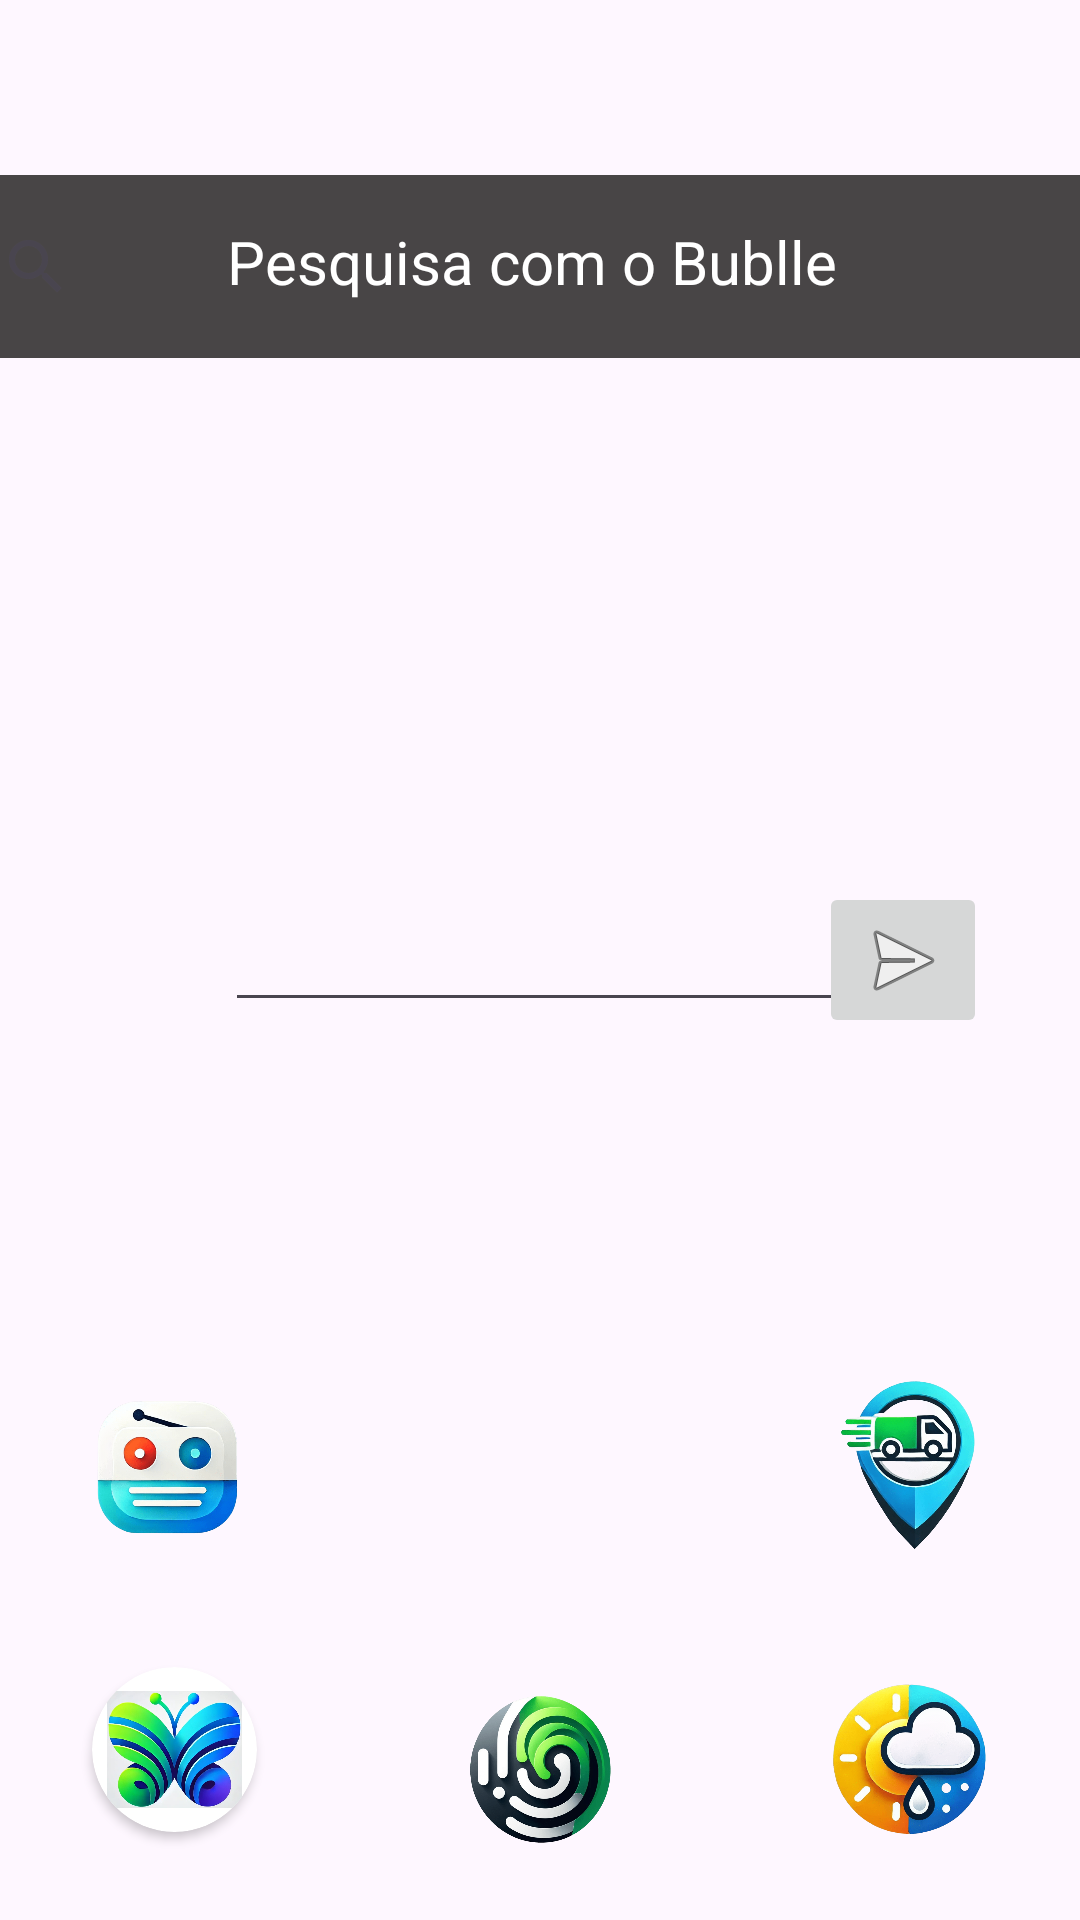

Point at icon controls on the screen. Image size 1080×1920, points as (x,y).
caminhao: (908,1465)
clima: (909,1759)
send: (897,960)
